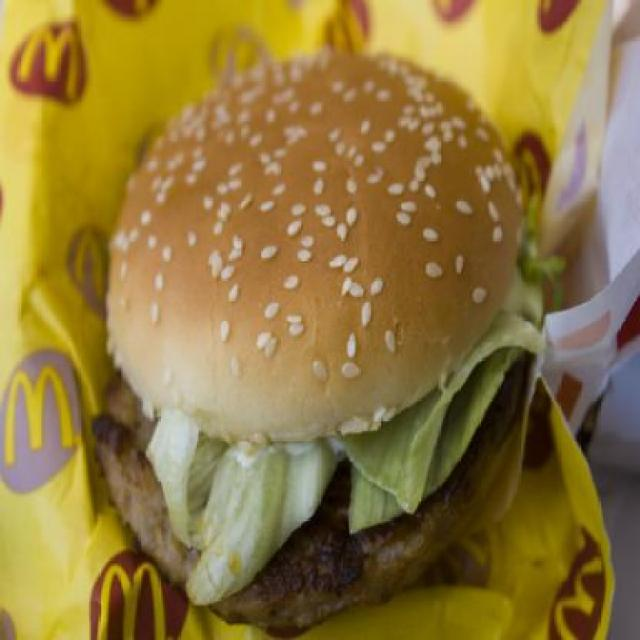Hamburger: (89, 49, 565, 638)
